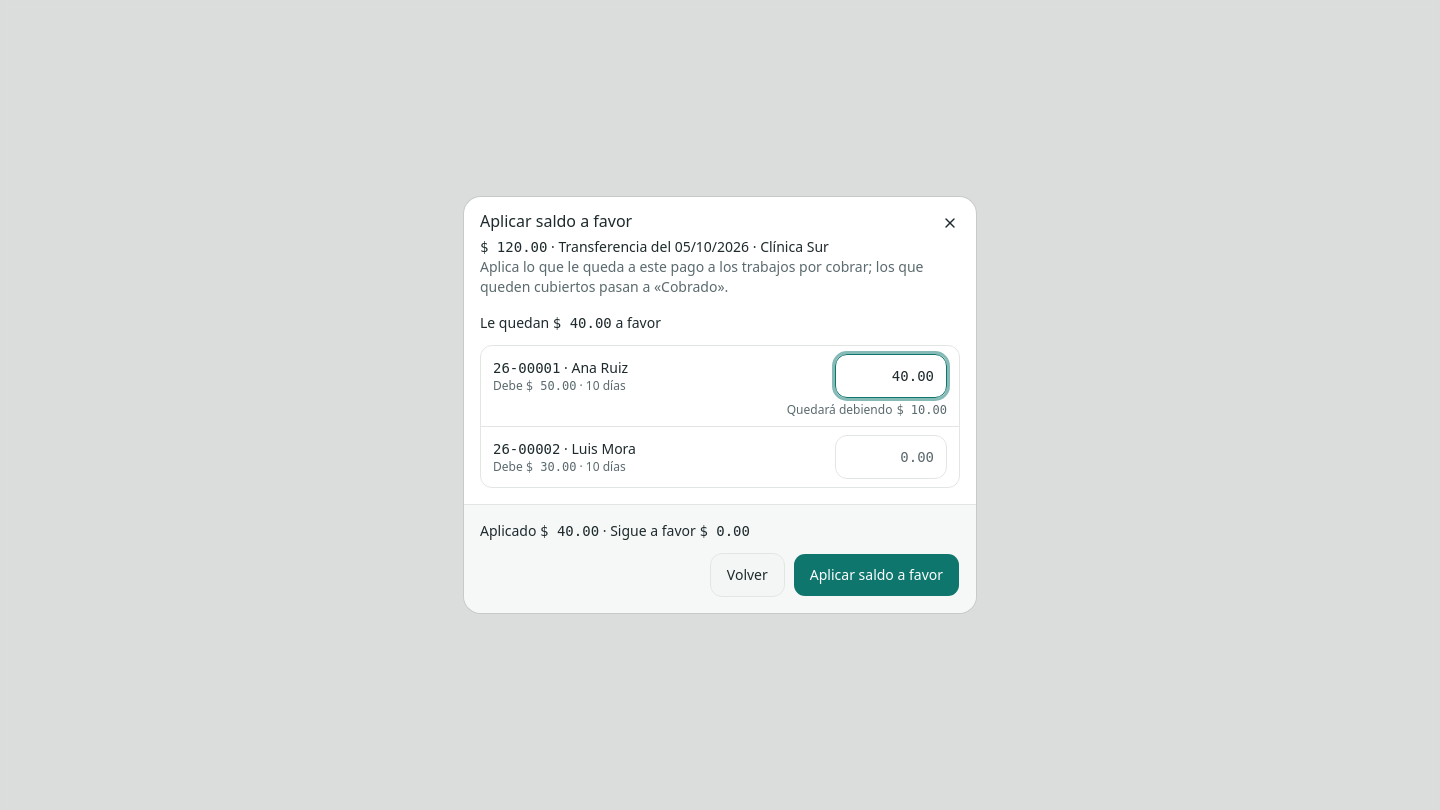
ApplyCreditDialog («Aplicar saldo a favor» de un pago, CTA-2) › un 422 de la API se pinta en su fila
This screenshot has width=1440, height=810.
Click the button "Aplicar saldo a favor" at {"x": 876, "y": 575}, box [793,553,960,597]
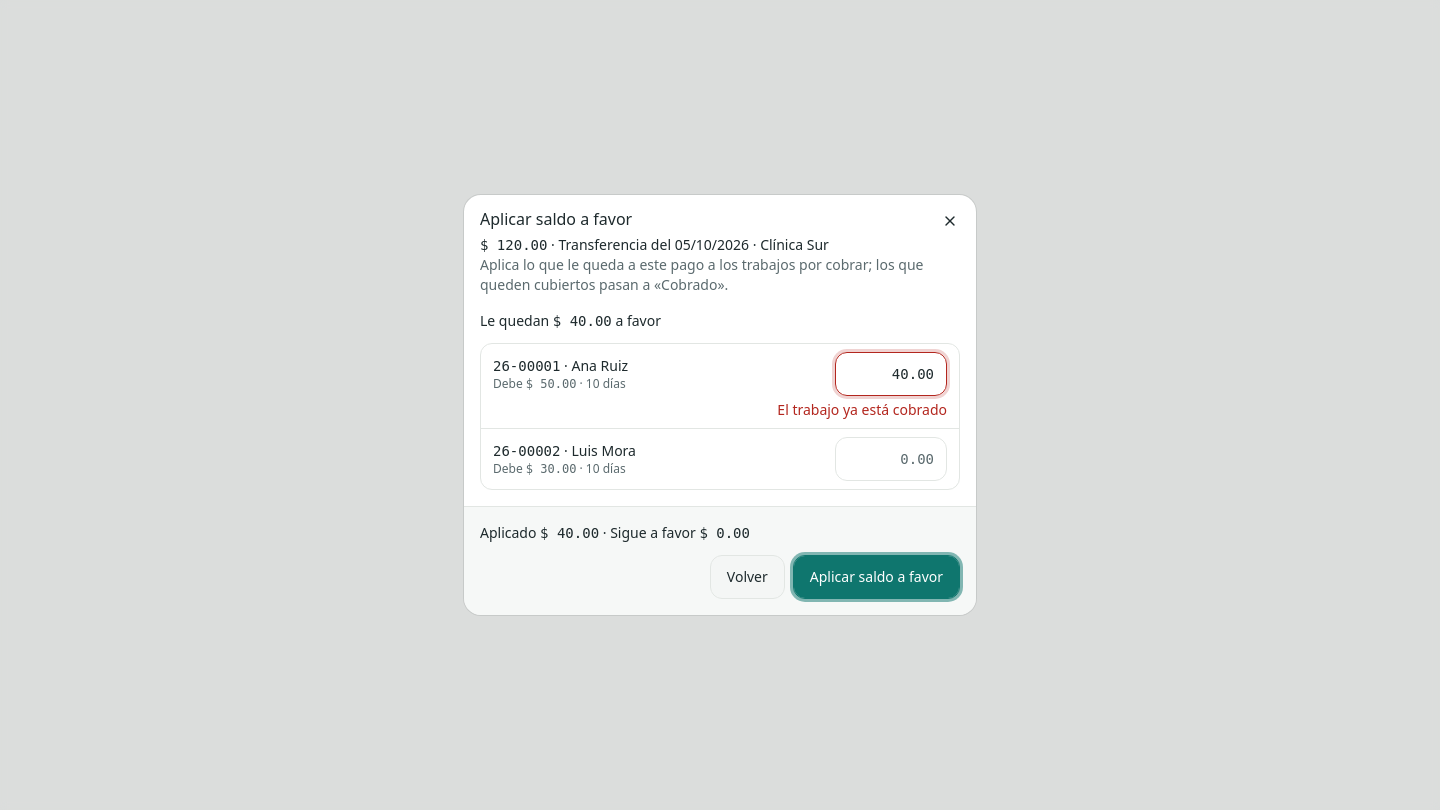
Check: the text "El trabajo ya está cobrado" is shown, box [777,400,947,419]
